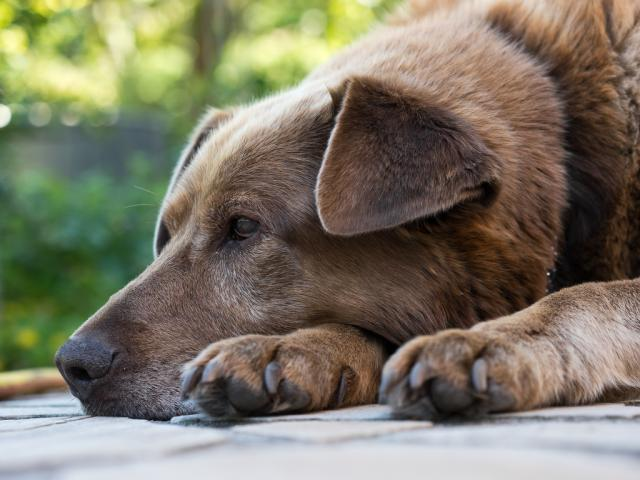Dog: (53, 0, 640, 423)
